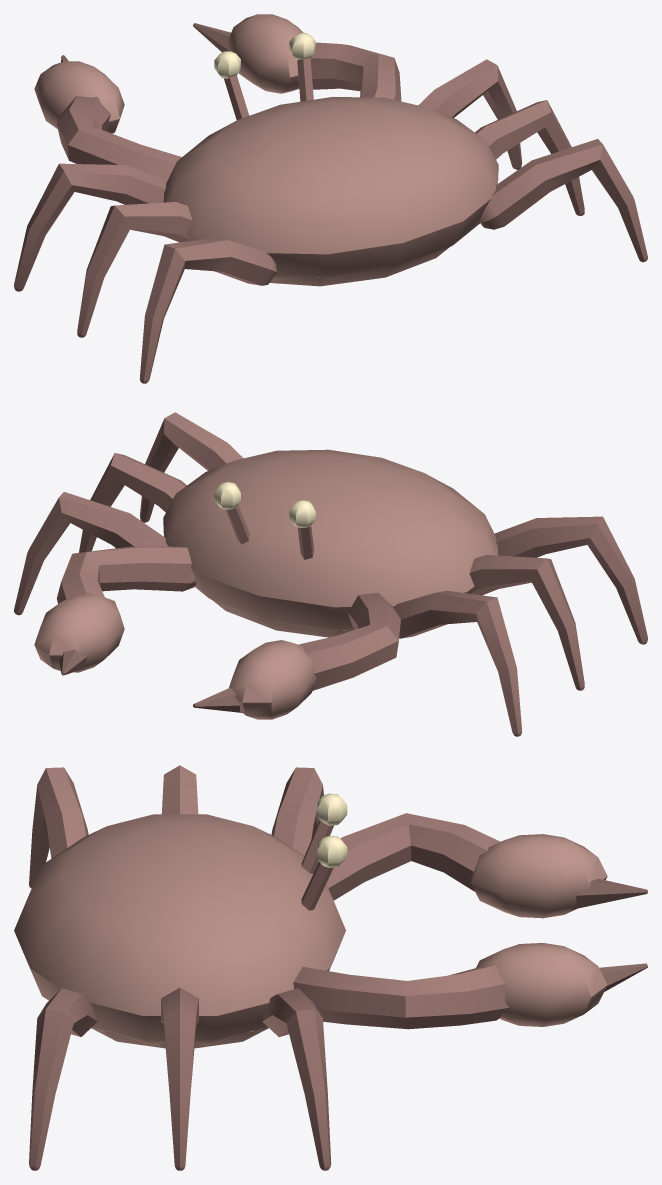
File: reef_crab.gltf
3 views of the same model, one above another, from view 1: azimuth 30°, elevation 25°; view 2: azimuth 150°, elevation 25°; view 3: azimuth 270°, elevation 25° (orthographic). The views are drawn at different scales.
Visible parts, largest first — view 1: Body, ArmR, ArmL, SwingB1, SwingA0, SwingA4, SwingB2, SwingB5, SwingA3; view 2: Body, ArmL, ArmR, SwingA0, SwingA4, SwingB5, SwingB2, SwingB1, SwingA3; view 3: Body, ArmR, ArmL, SwingB5, SwingB1, SwingA3, SwingA0, SwingA4, SwingB2.
Boxes of the visible parts, left/top/right/bottom form: Body: left=163, top=33, right=498, bottom=286; ArmR: left=193, top=14, right=401, bottom=101; ArmL: left=34, top=55, right=181, bottom=180; SwingB1: left=479, top=139, right=647, bottom=262; SwingA0: left=139, top=237, right=276, bottom=383; SwingA4: left=14, top=163, right=167, bottom=291; SwingB2: left=77, top=202, right=192, bottom=337; SwingB5: left=418, top=59, right=521, bottom=169; SwingA3: left=475, top=100, right=584, bottom=215; Body: left=163, top=449, right=498, bottom=637; ArmL: left=193, top=592, right=400, bottom=719; ArmR: left=34, top=546, right=196, bottom=675; SwingA0: left=494, top=516, right=647, bottom=644; SwingA4: left=393, top=590, right=522, bottom=736; SwingB5: left=14, top=492, right=168, bottom=615; SwingB2: left=469, top=555, right=584, bottom=690; SwingB1: left=140, top=412, right=243, bottom=522; SwingA3: left=79, top=453, right=186, bottom=552; Body: left=14, top=793, right=347, bottom=1048; ArmR: left=293, top=943, right=647, bottom=1029; ArmL: left=326, top=813, right=647, bottom=918; SwingB5: left=262, top=988, right=331, bottom=1170; SwingB1: left=29, top=988, right=97, bottom=1170; SwingA3: left=161, top=987, right=198, bottom=1170; SwingA0: left=29, top=767, right=88, bottom=888; SwingA4: left=271, top=767, right=323, bottom=855; SwingB2: left=161, top=765, right=198, bottom=814.
Size of the model in its own units: 1.95 by 0.6828 by 1.83.
